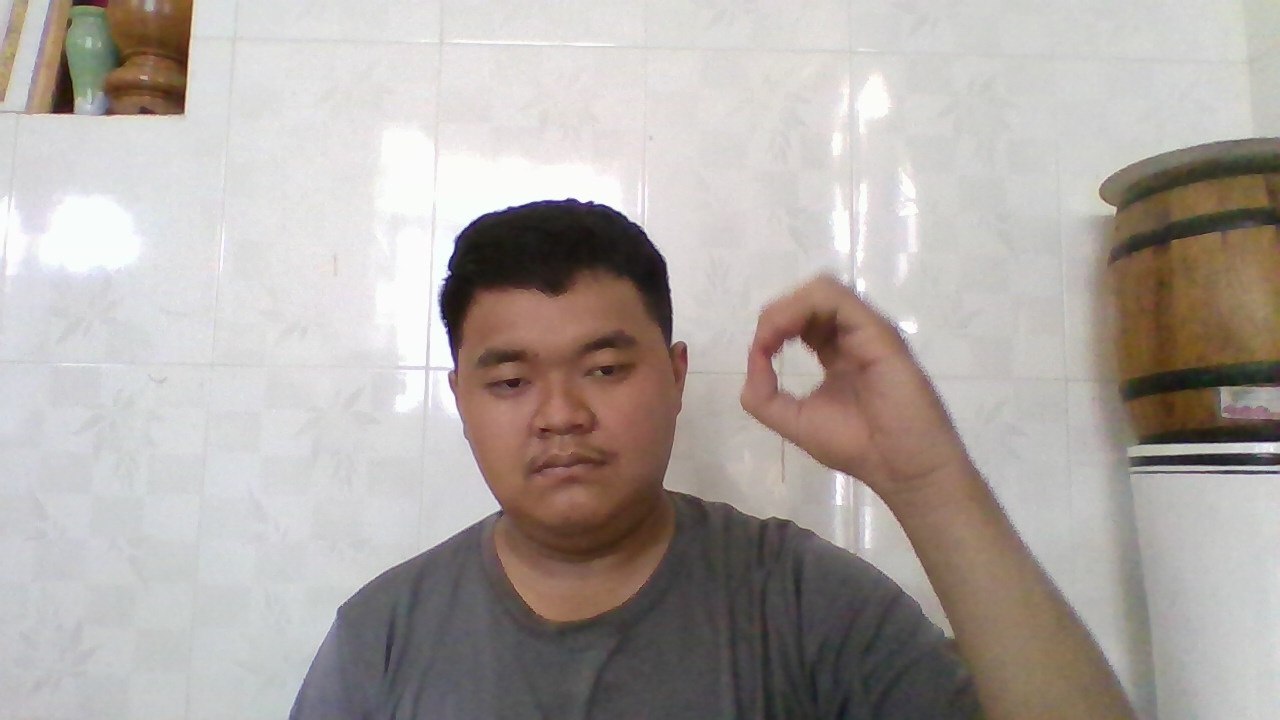O: (737, 270, 925, 490)
